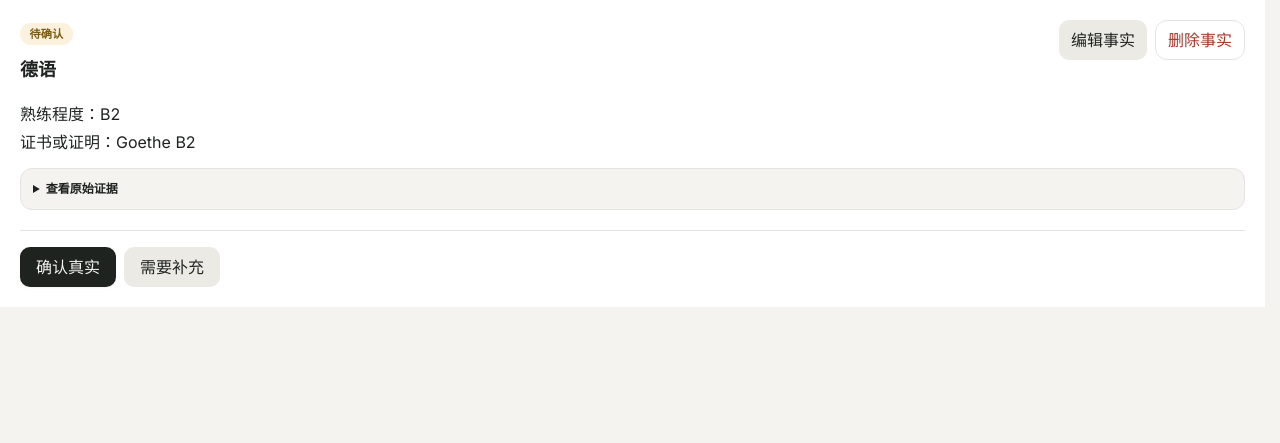
Test: FactEditor › uses the same category-specific language fields when editing
Click the button "编辑事实": [1103, 40] box [1059,20,1147,60]
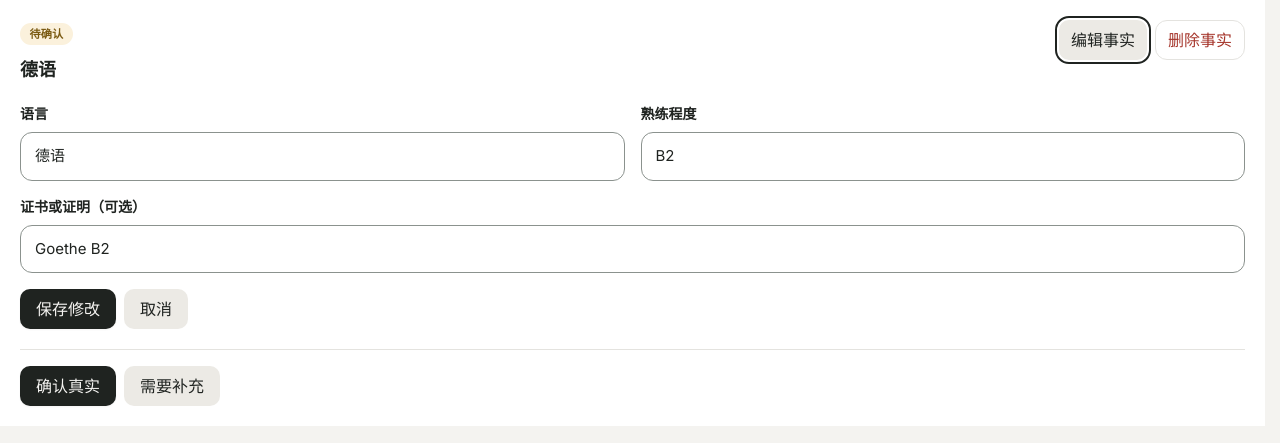
Check: the field labelled "语言" holds "德语", box [20,132,624,180]
Check: the field labelled "熟练程度" holds "B2", box [640,132,1245,180]
Check: the field labelled "证书或证明（可选）" holds "Goethe B2", box [20,224,1245,273]
